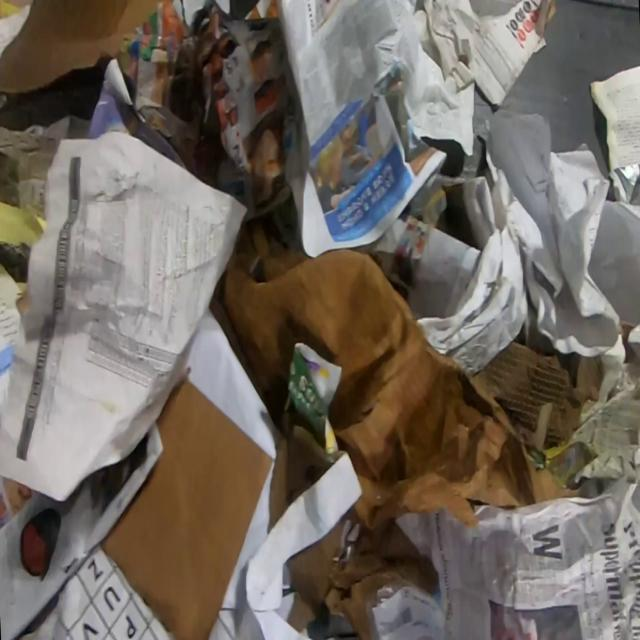cardboard: (208, 223, 602, 534), (100, 377, 272, 640), (0, 0, 170, 94), (472, 0, 557, 108)
